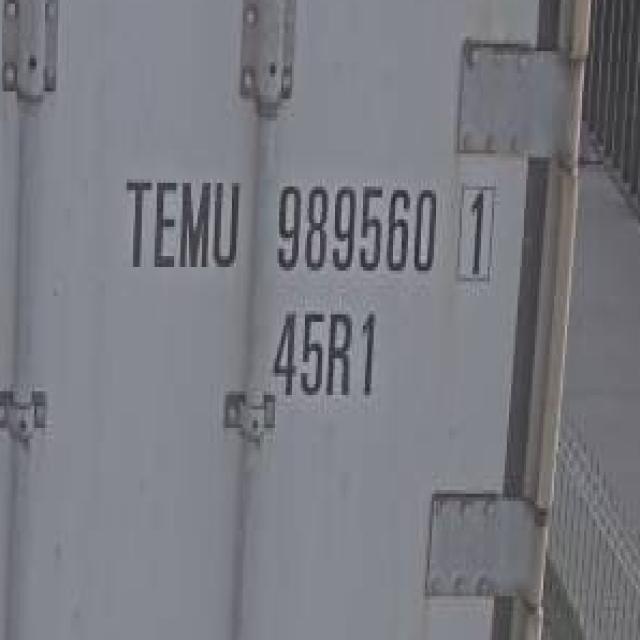dv: (452, 173, 507, 291)
owner: (122, 170, 245, 278)
serial: (271, 175, 442, 280)
size: (262, 299, 394, 406)
